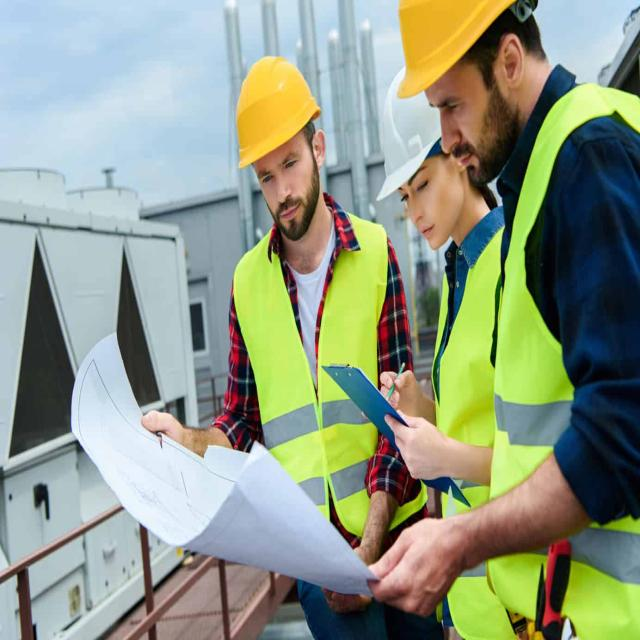helmet: (388, 0, 548, 101), (229, 47, 324, 176), (377, 60, 454, 209)
no-goggles: (242, 147, 321, 195), (424, 88, 488, 131), (392, 172, 452, 214)
vest: (490, 68, 640, 640), (223, 212, 425, 565), (415, 226, 521, 640)
